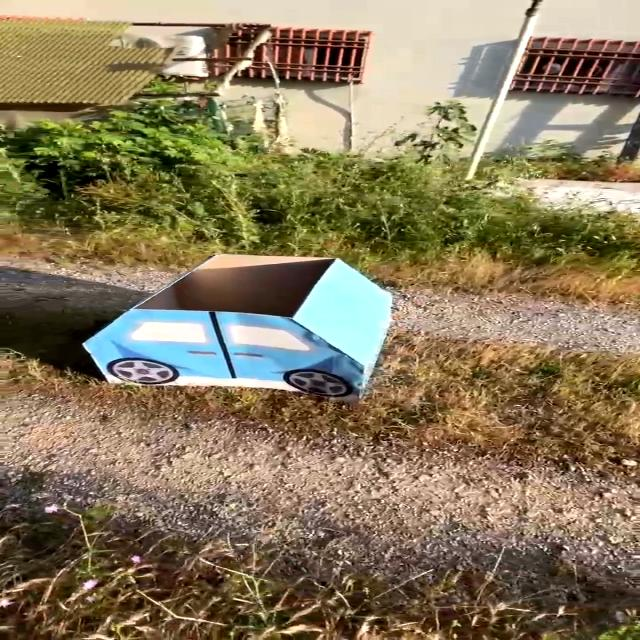blue_car: (7, 233, 441, 422)
